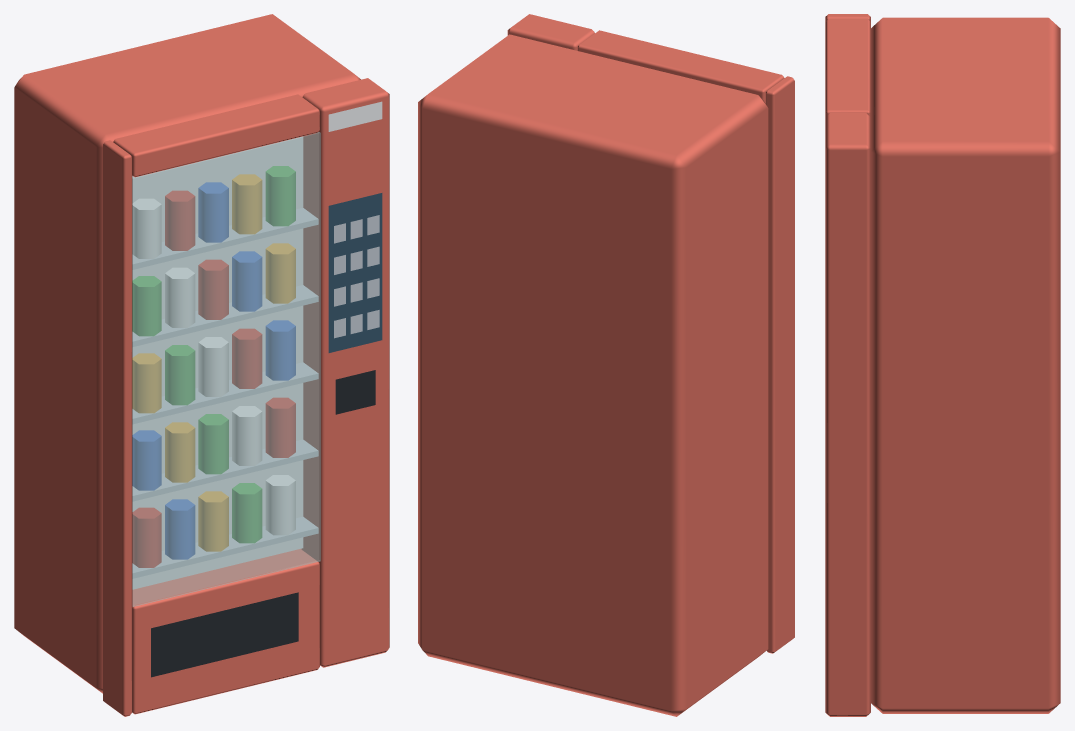
Rendered from CM_Interior_VendingMachine.fbx.
3 renders of one model, left to right at view 1: azimuth 30°, elevation 25°; view 2: azimuth 150°, elevation 25°; view 3: azimuth 270°, elevation 25°, orthographic.
Visible parts, largest first — view 1: Body, Glass; view 2: Body; view 3: Body.
Part boxes in pixels (left/top/right/bottom): Body: left=14, top=14, right=389, bottom=716; Glass: left=132, top=132, right=320, bottom=606; Body: left=418, top=14, right=794, bottom=716; Body: left=825, top=14, right=1060, bottom=716.
Size of the model in its own units: 4 by 3 by 8.
Materials: 2 (2 with a texture image).
